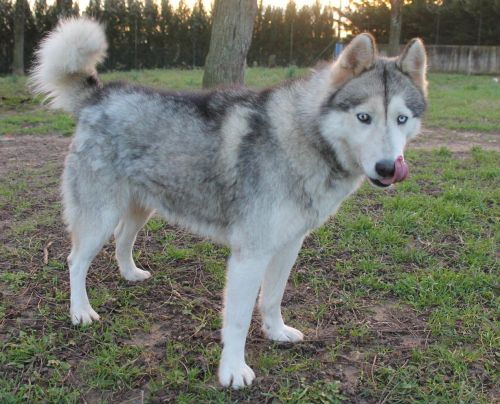husky: (53, 15, 445, 335)
